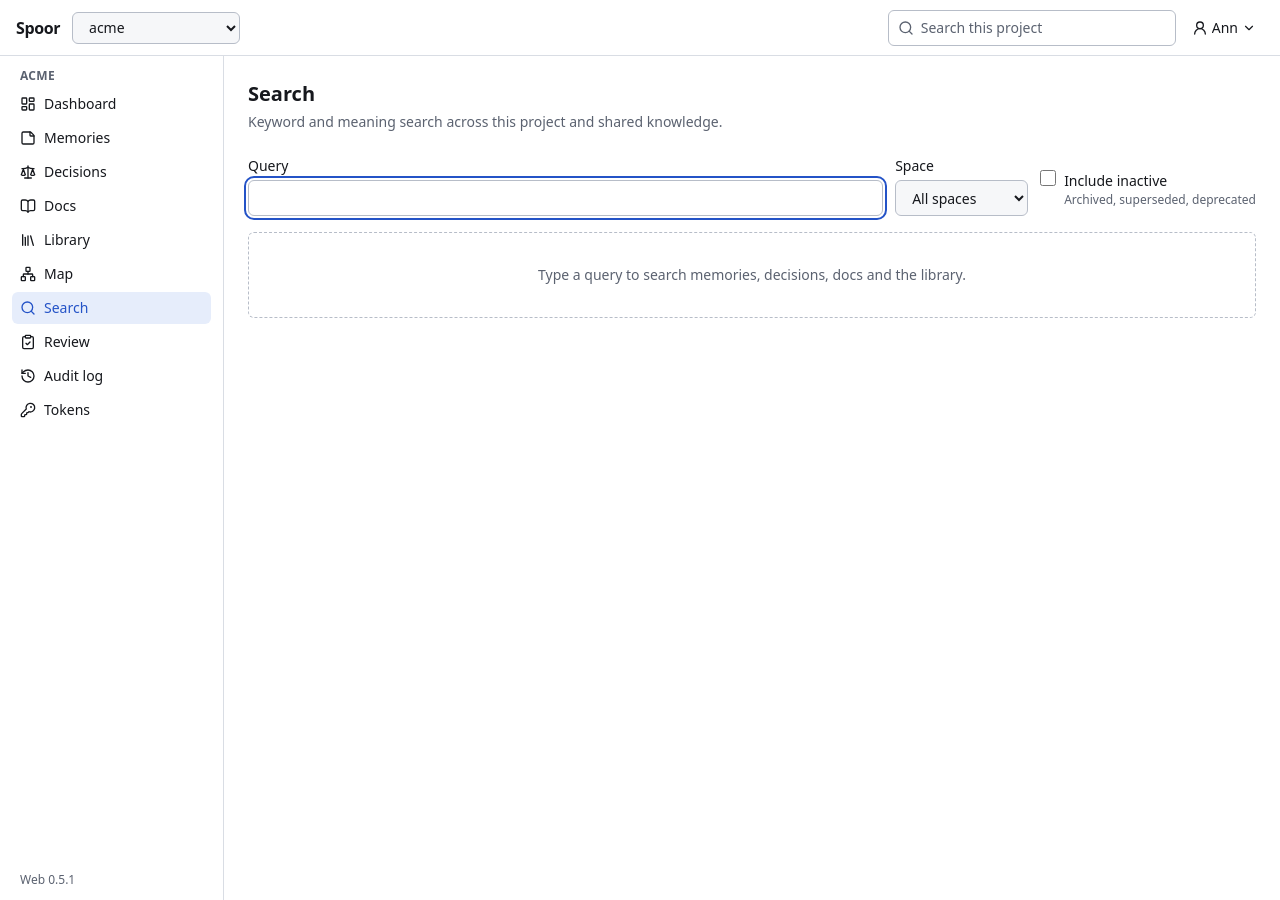
Test: SearchPage › debounces typing into the URL query
This screenshot has width=1280, height=900.
expect the text "Type a query" is shown: met, box left=538, top=265, right=966, bottom=284
Note: no delay between keys, so a slow machine cannot outlast the 250 ms debounce mid-word
In the search field labelled "Query": (566, 198) left=248, top=180, right=883, bottom=216, type "cache"
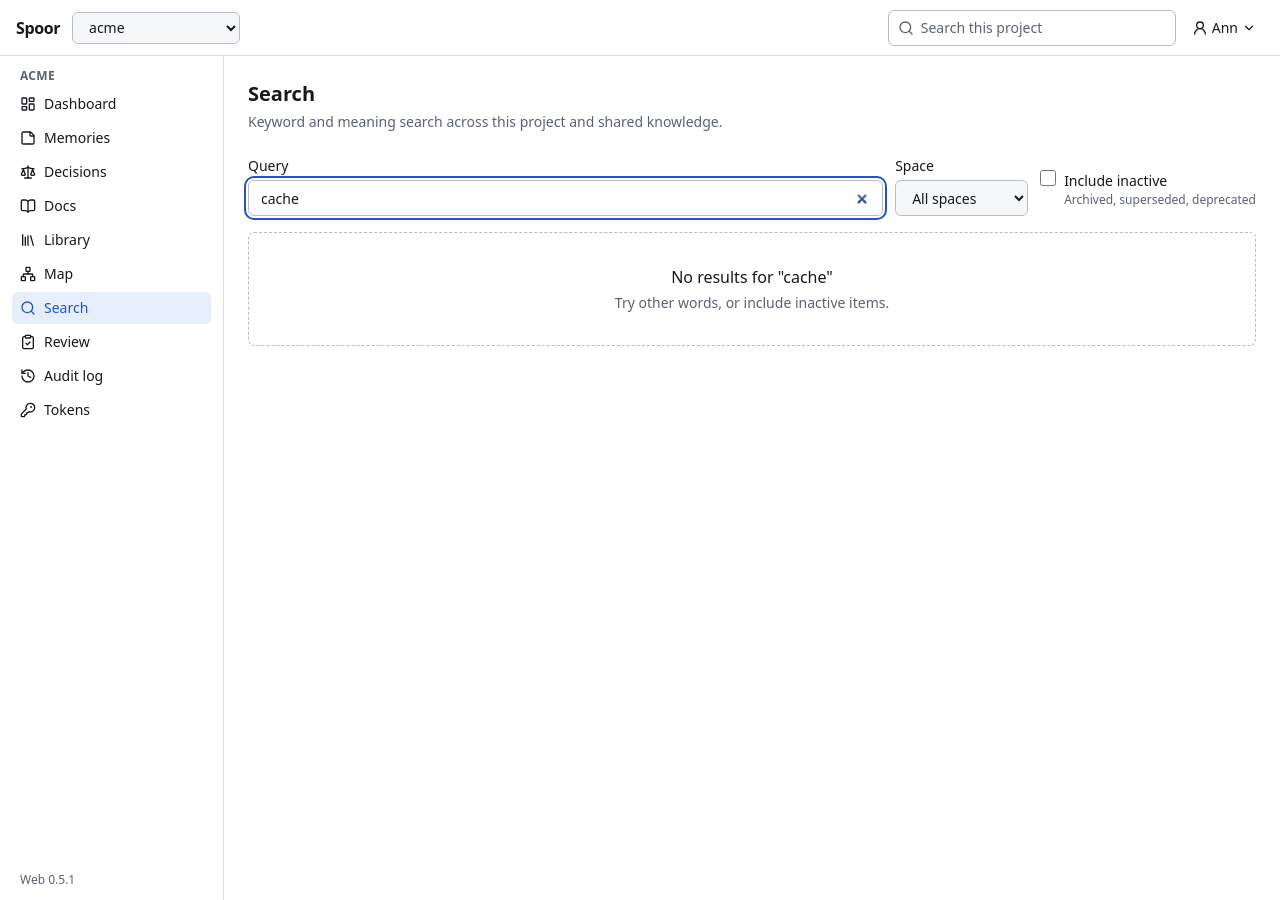
expect the text "No results for \"cache\"" is shown: met, box left=671, top=266, right=833, bottom=288
